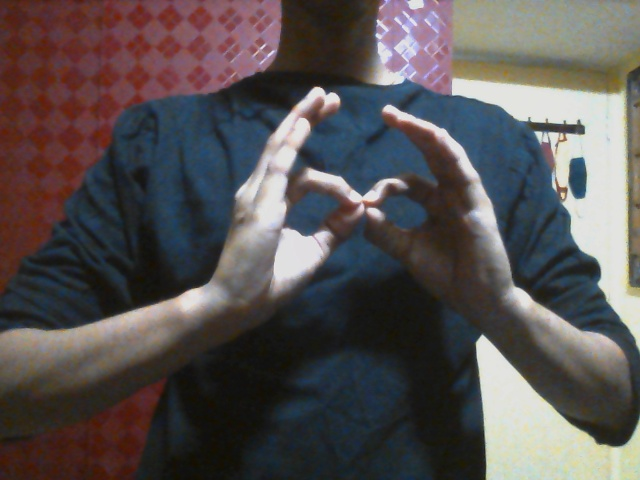B: (208, 84, 516, 331)
